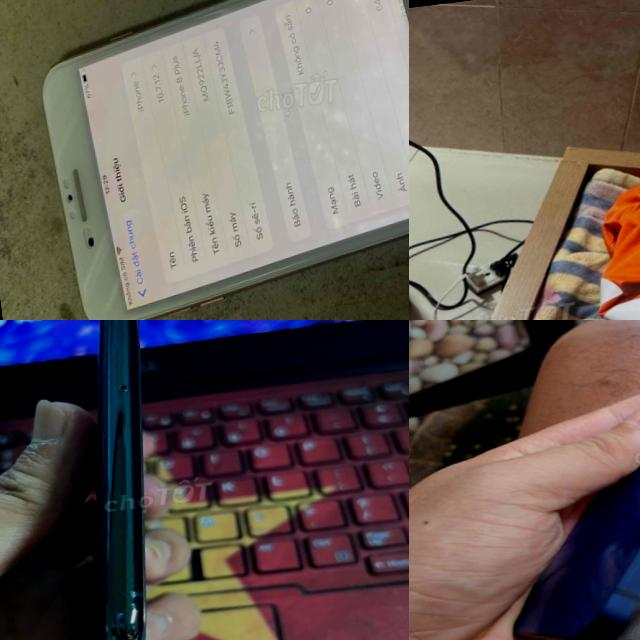scratch: (99, 492, 165, 604), (87, 320, 148, 390)
